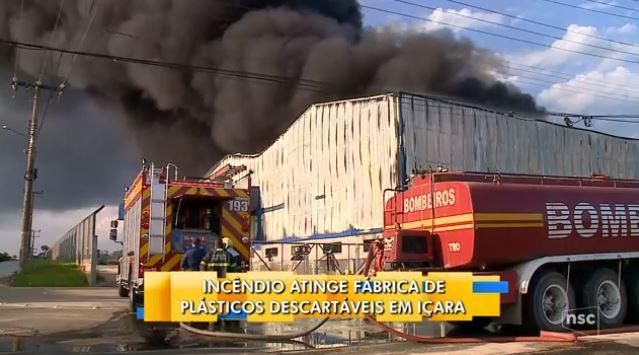smoke: (108, 0, 335, 66), (211, 80, 280, 146)
